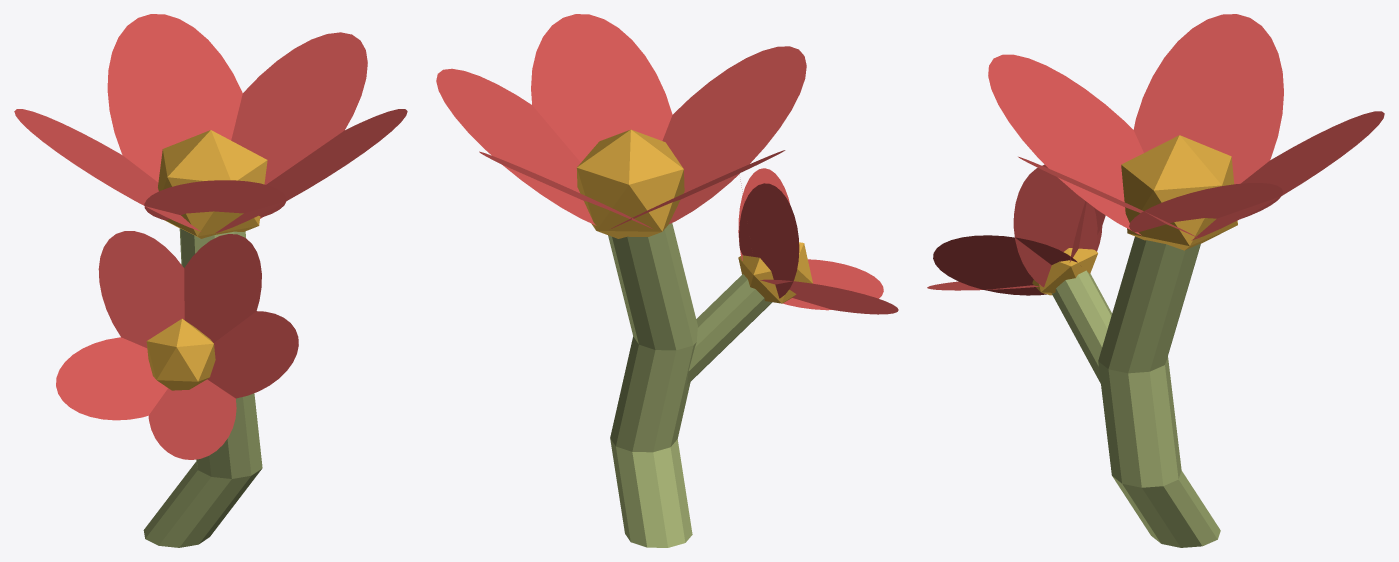
File: RedFlower.fbx
3 views of the same model, side by side, from view 1: azimuth 30°, elevation 25°; view 2: azimuth 150°, elevation 25°; view 3: azimuth 270°, elevation 25° (orthographic). The views are drawn at different scales.
Parts seen in each view (by area): view 1: RedFlower; view 2: RedFlower; view 3: RedFlower.
Boxes of the visible parts, x1,y1,x2,y2 form: RedFlower: (14, 14, 407, 547); RedFlower: (436, 14, 898, 547); RedFlower: (927, 14, 1384, 547).
Size of the model in its own units: 17.93 by 19.52 by 17.99.
